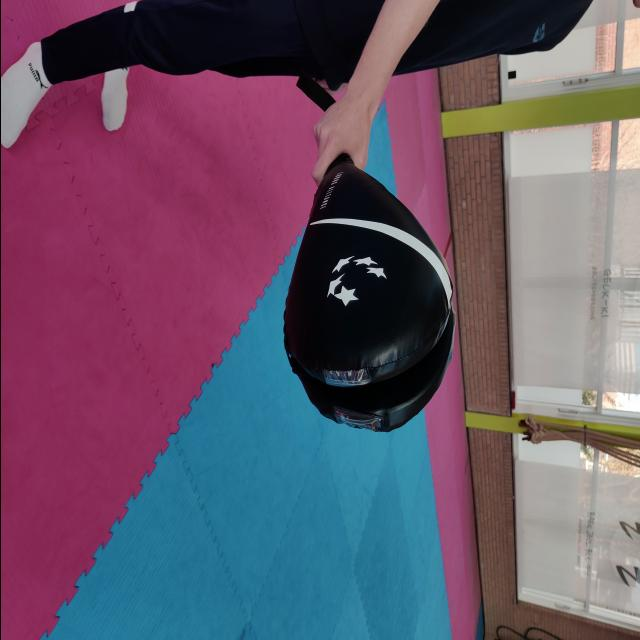paddle: (280, 158, 457, 434)
